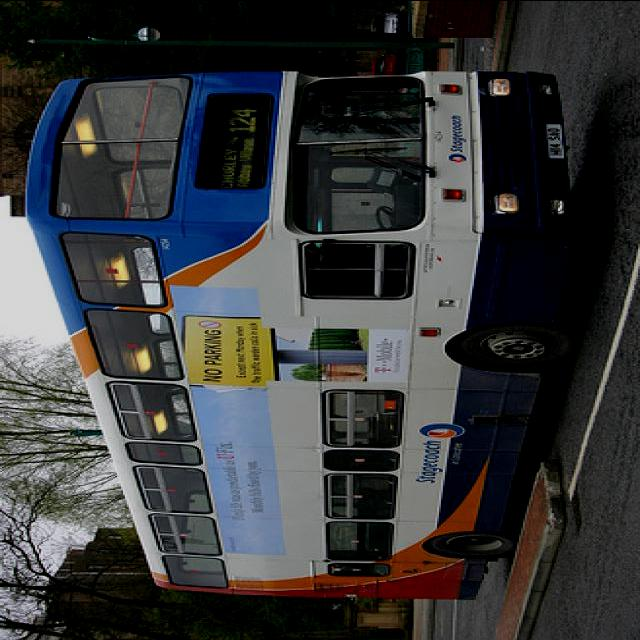bus: (25, 70, 585, 601)
